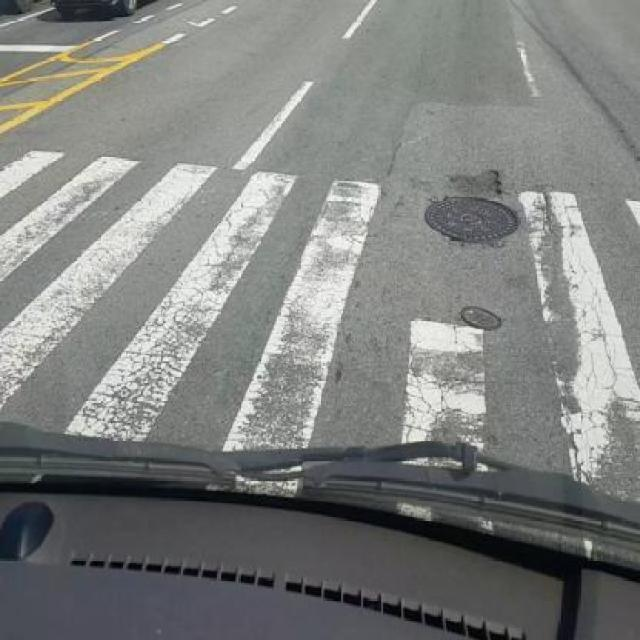Manhole: (424, 172, 524, 243)
